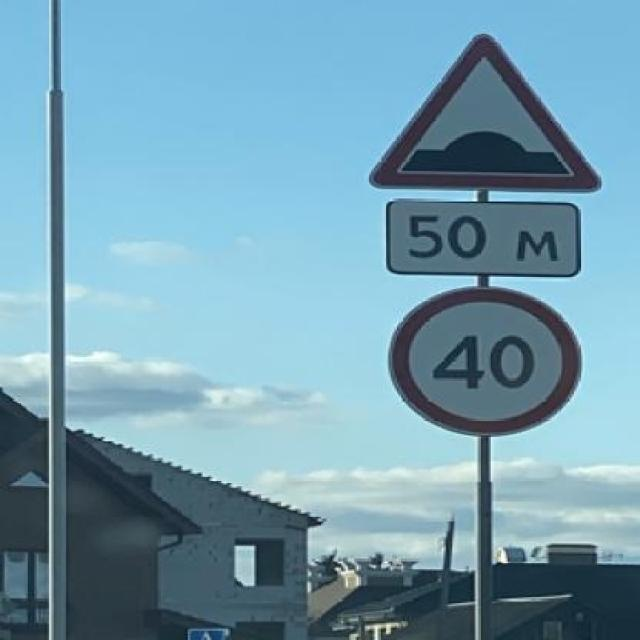forb_speed_over_40: (389, 288, 580, 437)
